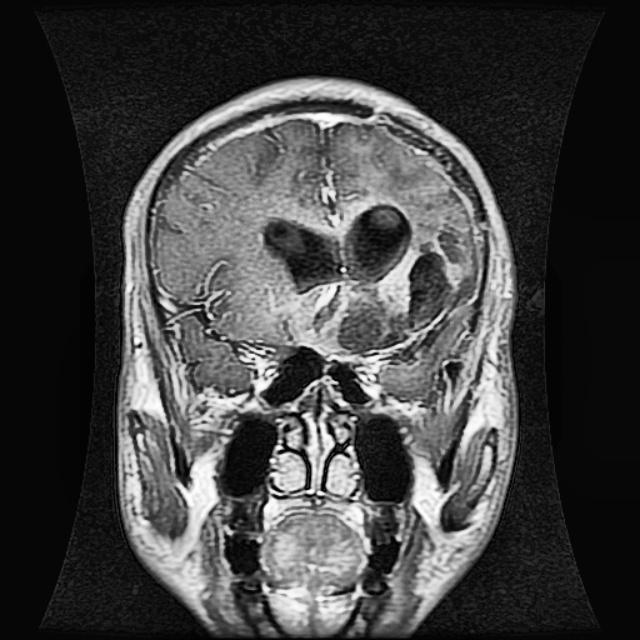Meningioma: (334, 222, 479, 367)
